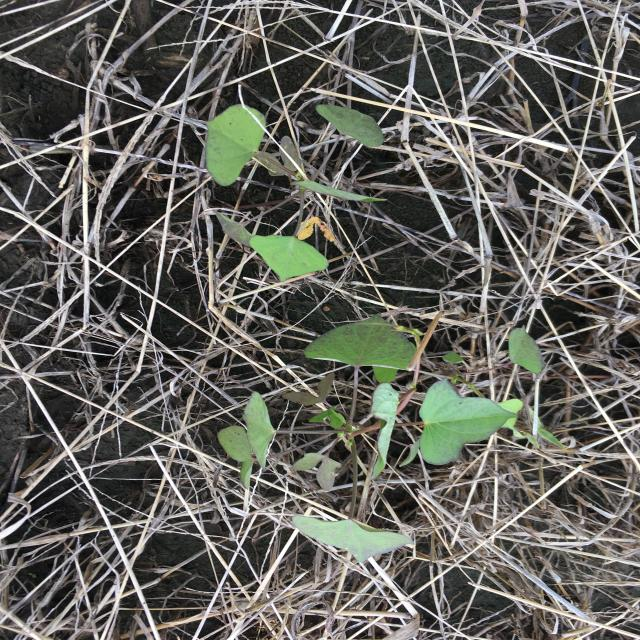MorningGlory: (213, 306, 548, 566), (188, 102, 390, 285)
